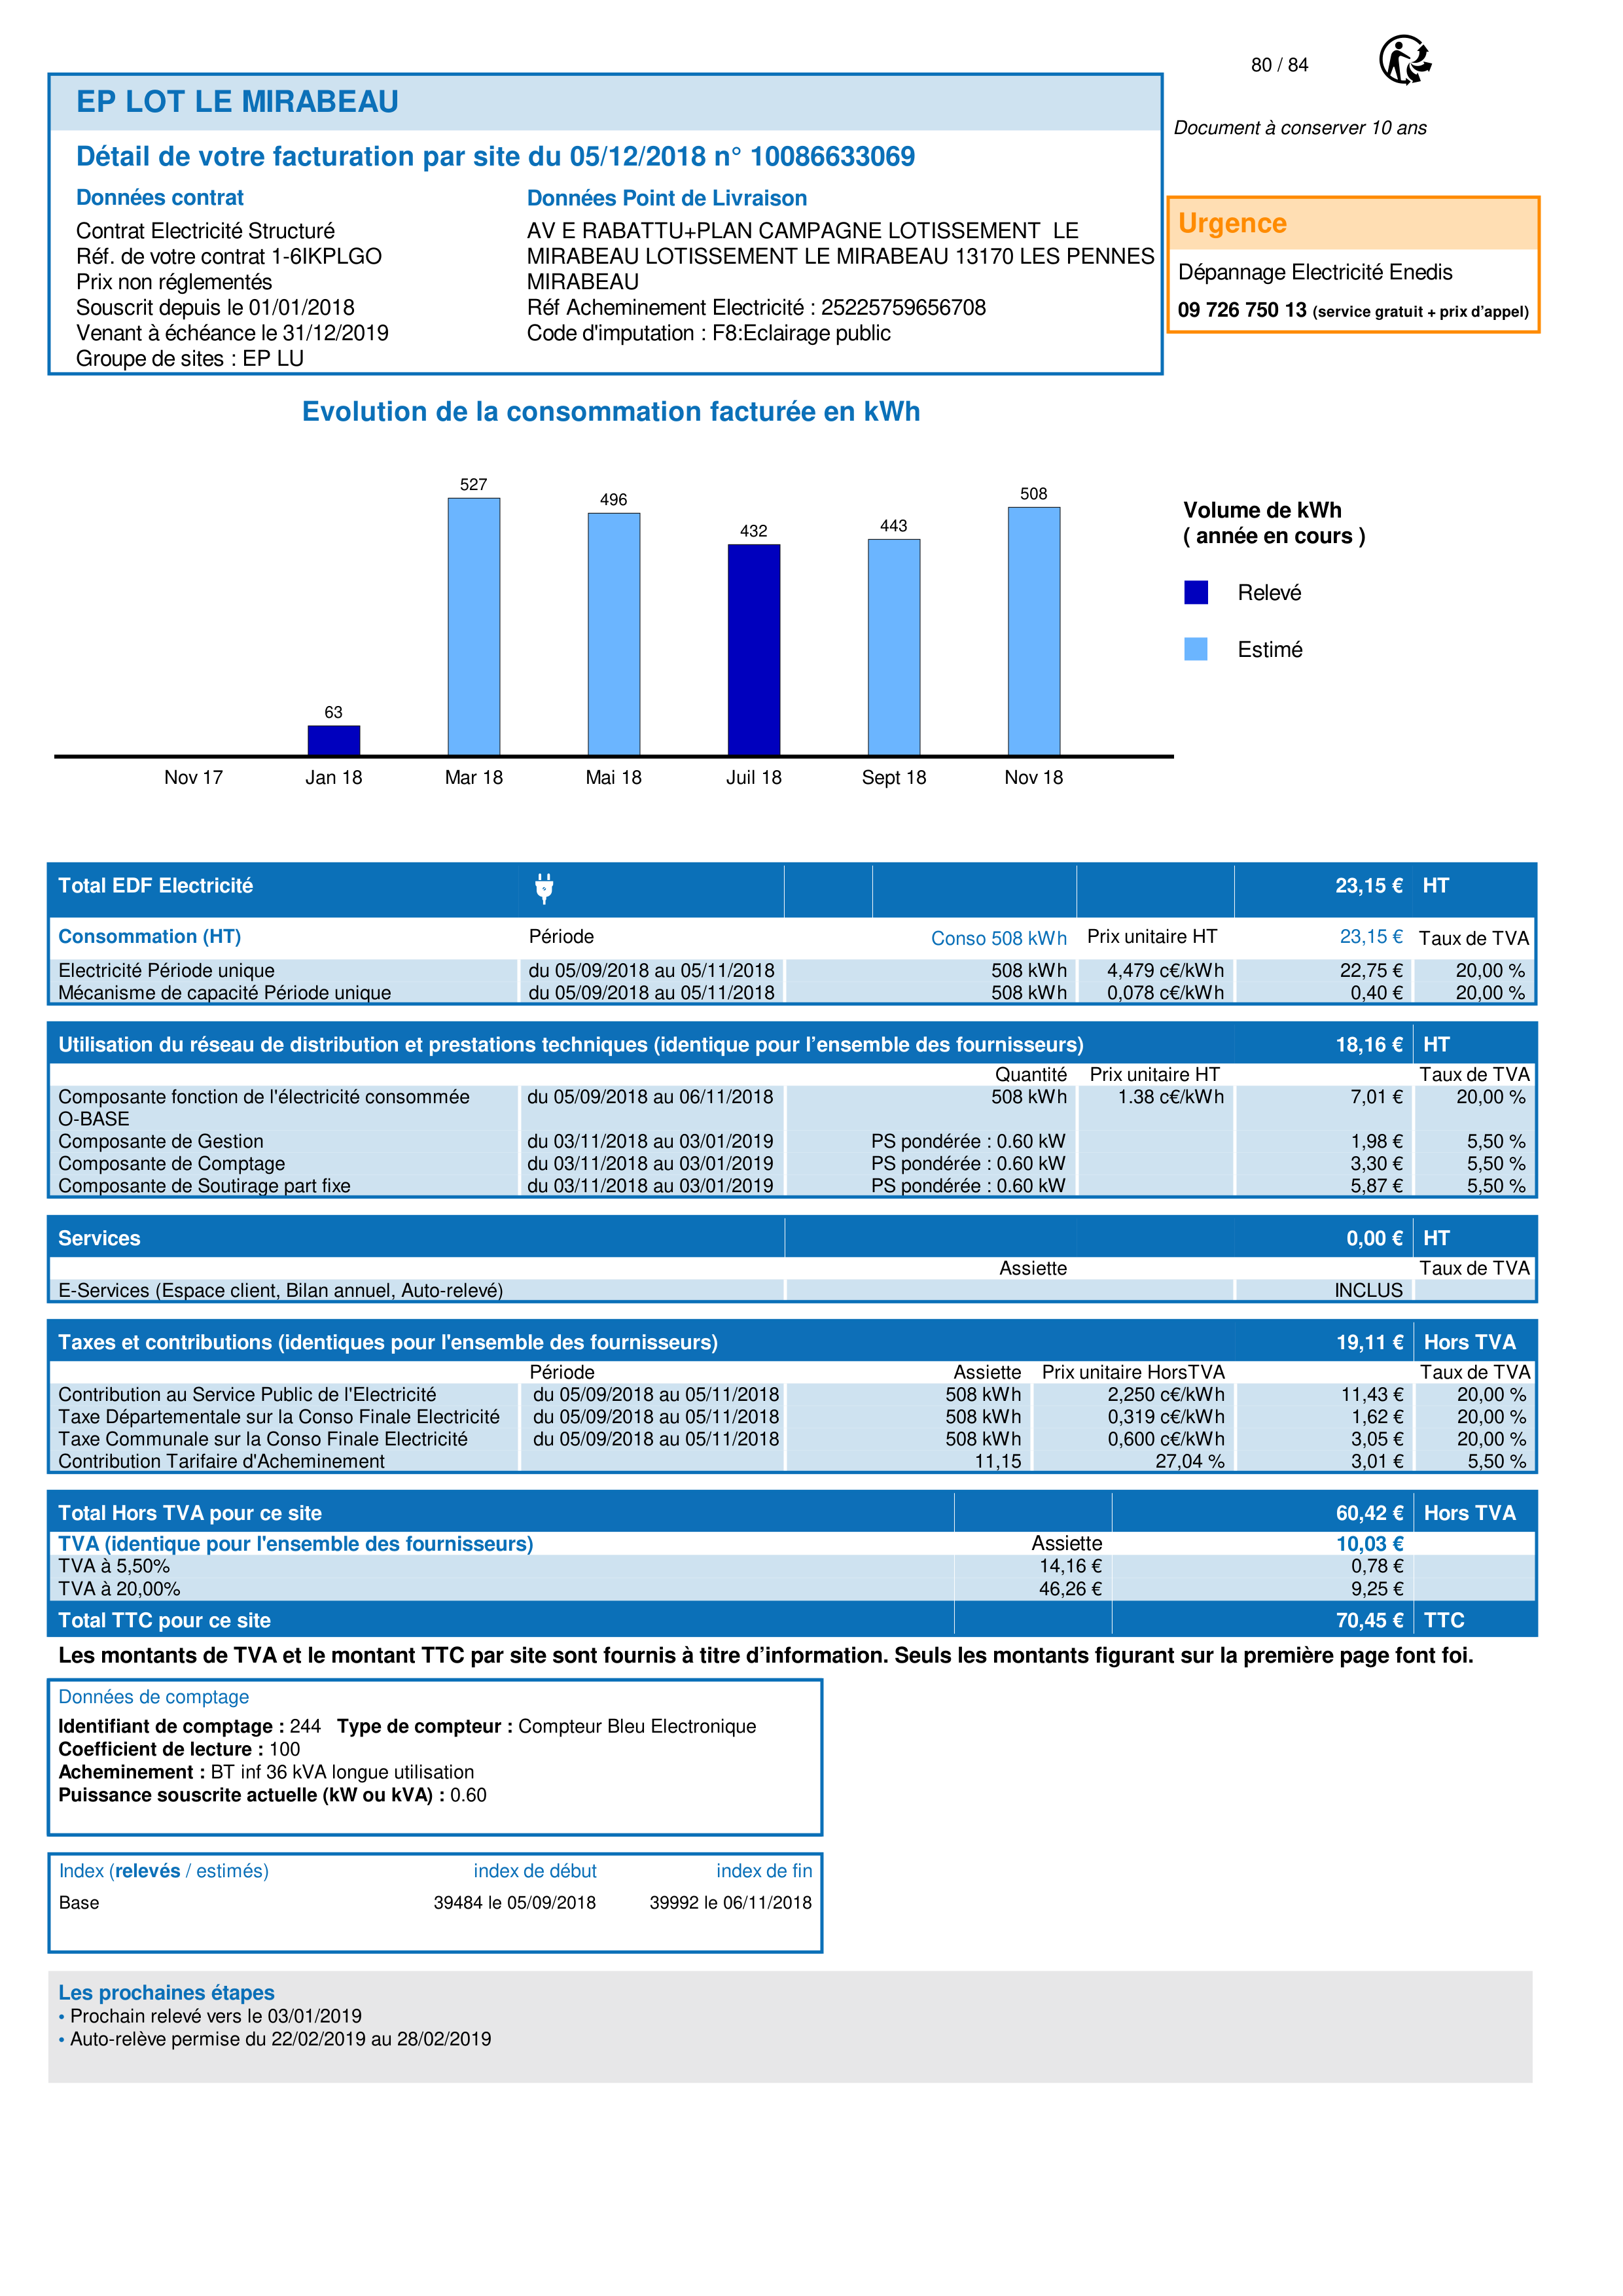area: (47, 1850, 824, 1953)
type_indicator: (48, 1854, 281, 1888)
